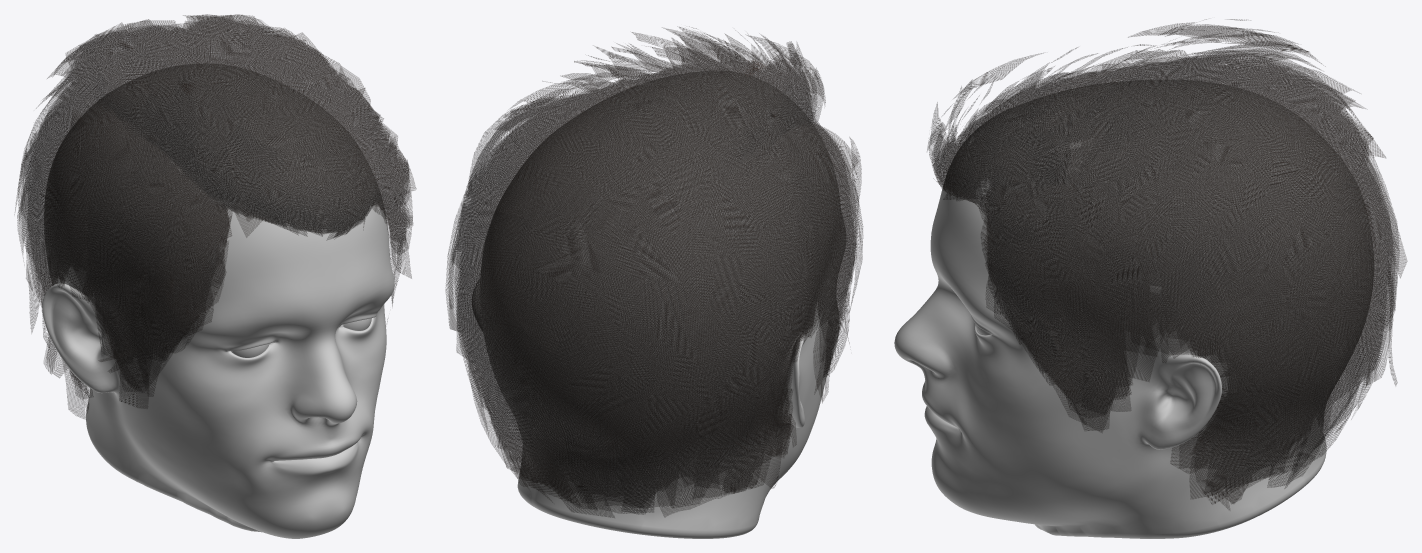
The model's file is SwissHead.gltf.
3 views of the same model, side by side, from view 1: azimuth 30°, elevation 25°; view 2: azimuth 150°, elevation 25°; view 3: azimuth 270°, elevation 25° (orthographic). The views are drawn at different scales.
Visible parts, largest first — view 1: FBHead, Ch33_Hair; view 2: Ch33_Hair, FBHead; view 3: FBHead, Ch33_Hair.
Boxes of the visible parts, left/top/right/bottom form: FBHead: left=42, top=63, right=394, bottom=538; Ch33_Hair: left=14, top=14, right=416, bottom=419; Ch33_Hair: left=445, top=26, right=863, bottom=517; FBHead: left=472, top=71, right=845, bottom=538; FBHead: left=894, top=80, right=1373, bottom=538; Ch33_Hair: left=927, top=19, right=1407, bottom=509.
Bounding box in the file's own units: 2.12 × 2.89 × 2.83.
